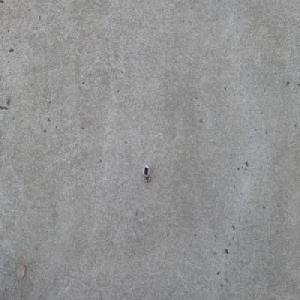MetalPart: (142, 164, 150, 183)
